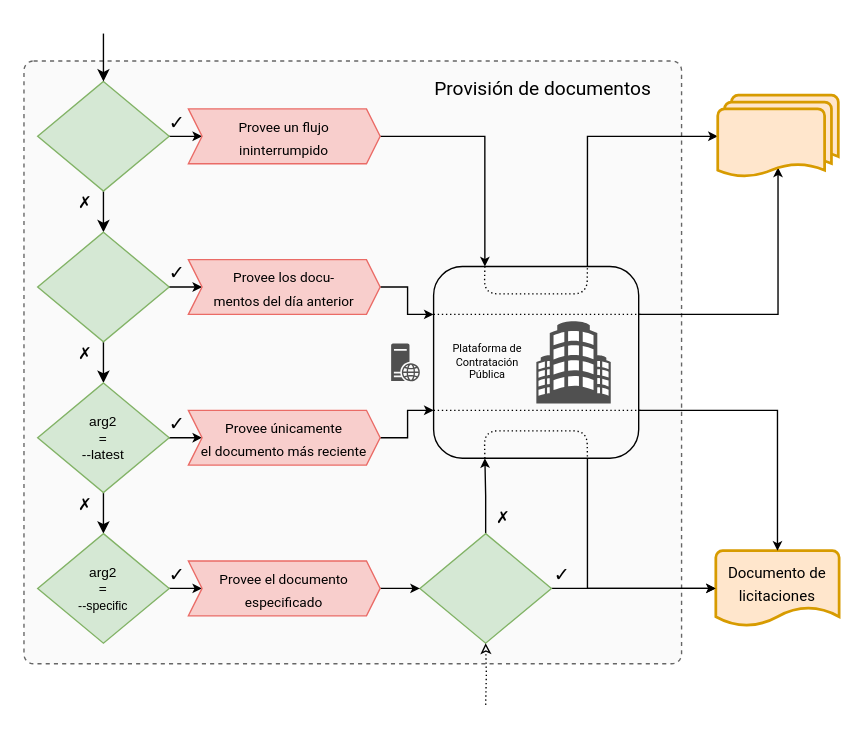
Some shapes in this 864 by 738 pixel diagram are drawn without their labels. Here are the shapes that lost their labels. From the top down, the box of each, then its label:
(36, 80, 169, 191): arg2 = --all
(716, 93, 839, 178): Conjunto de documentos
(36, 231, 169, 342): arg2 = --daily
(419, 532, 551, 643): arg3 local?
